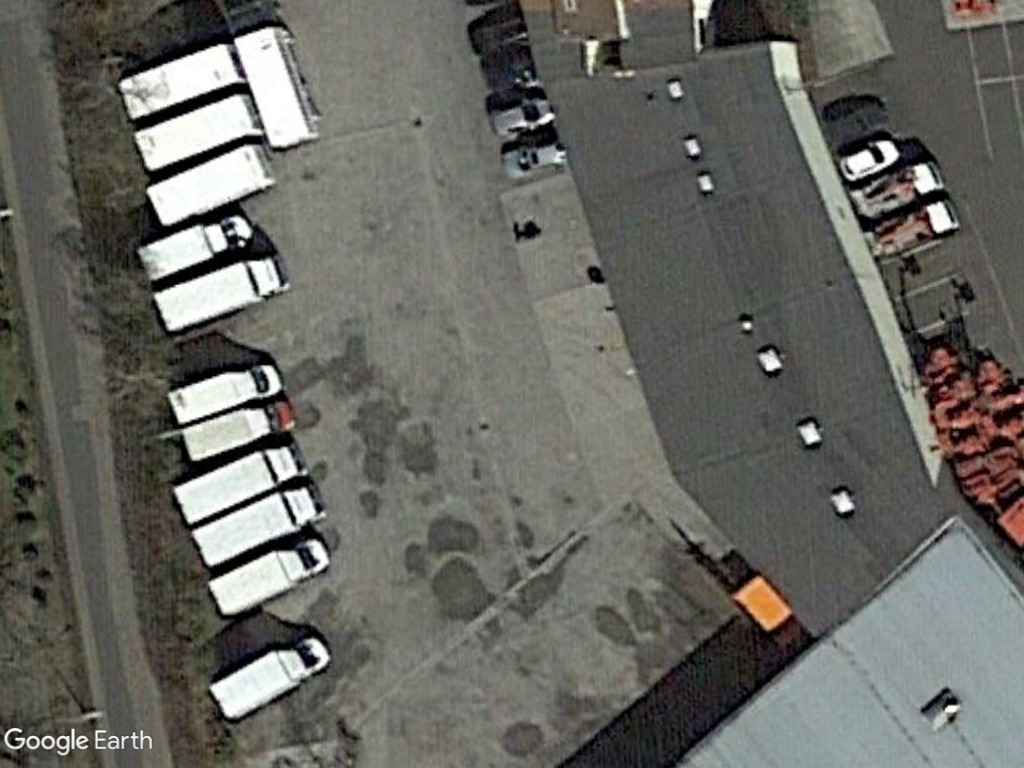car: (836, 136, 901, 184)
truck: (189, 478, 326, 574), (151, 248, 293, 340), (168, 438, 301, 531), (207, 631, 333, 726), (204, 534, 331, 621), (131, 208, 256, 286), (167, 356, 281, 426), (178, 396, 293, 464)
